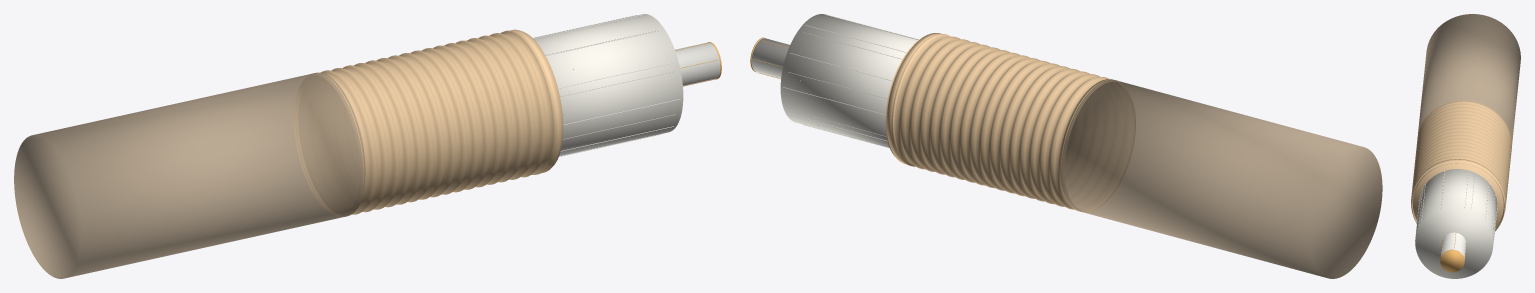
File: rf-ut141c-macro.glb
The picture shows the model from 3 angles, left to right: view 1: azimuth 30°, elevation 25°; view 2: azimuth 150°, elevation 25°; view 3: azimuth 270°, elevation 25°; orthographic projection. The views are drawn at different scales.
Visible parts, largest first — view 1: thin FEP rear jacket, macro semi rigid tube shield, macro PTFE dielectric core, polished solid center conductor, semi rigid tube cut rim; view 2: thin FEP rear jacket, macro semi rigid tube shield, macro PTFE dielectric core, semi rigid tube cut rim, polished solid center conductor; view 3: thin FEP rear jacket, macro PTFE dielectric core, macro semi rigid tube shield, semi rigid tube cut rim, polished conductor cut face glow, polished solid center conductor.
Part boxes in pixels (bbox=[...]): thin FEP rear jacket: bbox=[14, 72, 365, 278]; macro semi rigid tube shield: bbox=[294, 30, 563, 216]; macro PTFE dielectric core: bbox=[533, 14, 683, 156]; polished solid center conductor: bbox=[675, 42, 720, 86]; semi rigid tube cut rim: bbox=[500, 29, 561, 174]; thin FEP rear jacket: bbox=[1059, 79, 1382, 278]; macro semi rigid tube shield: bbox=[885, 34, 1135, 211]; macro PTFE dielectric core: bbox=[780, 14, 917, 147]; semi rigid tube cut rim: bbox=[886, 33, 950, 166]; polished solid center conductor: bbox=[751, 38, 789, 78]; thin FEP rear jacket: bbox=[1417, 14, 1520, 147]; macro PTFE dielectric core: bbox=[1415, 169, 1497, 278]; macro semi rigid tube shield: bbox=[1411, 100, 1511, 230]; semi rigid tube cut rim: bbox=[1411, 159, 1505, 231]; polished conductor cut face glow: bbox=[1440, 249, 1464, 272]; polished solid center conductor: bbox=[1440, 232, 1466, 259].
Size of the model in its own units: 6.24 by 1.22 by 1.41.
